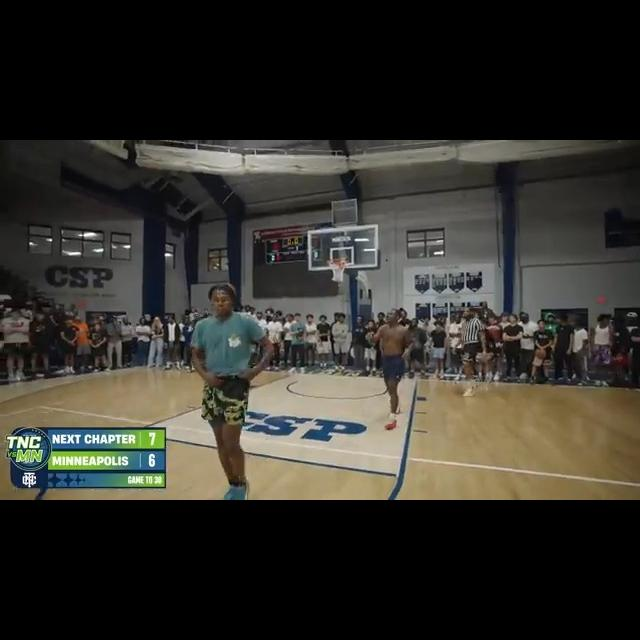hoop: (327, 257, 346, 282)
